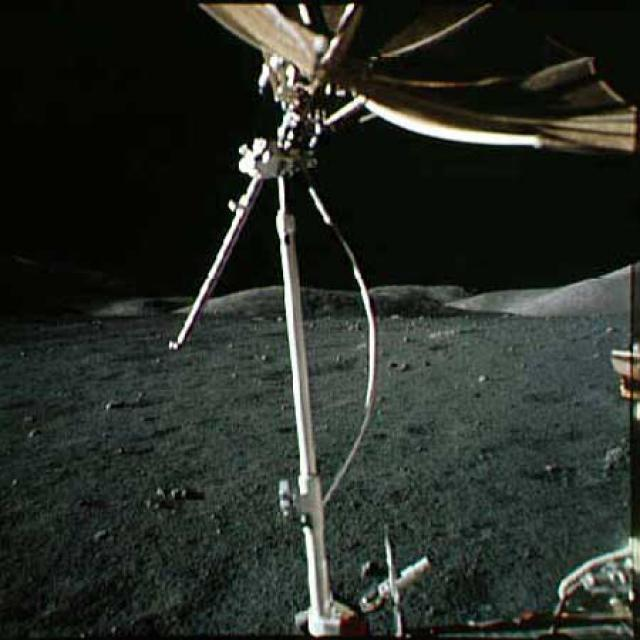artifact: (156, 1, 633, 356), (238, 352, 442, 638), (544, 337, 638, 639)
crater: (276, 356, 374, 376)
rock: (88, 527, 117, 543), (101, 397, 129, 412), (28, 427, 44, 440), (476, 371, 488, 383)
